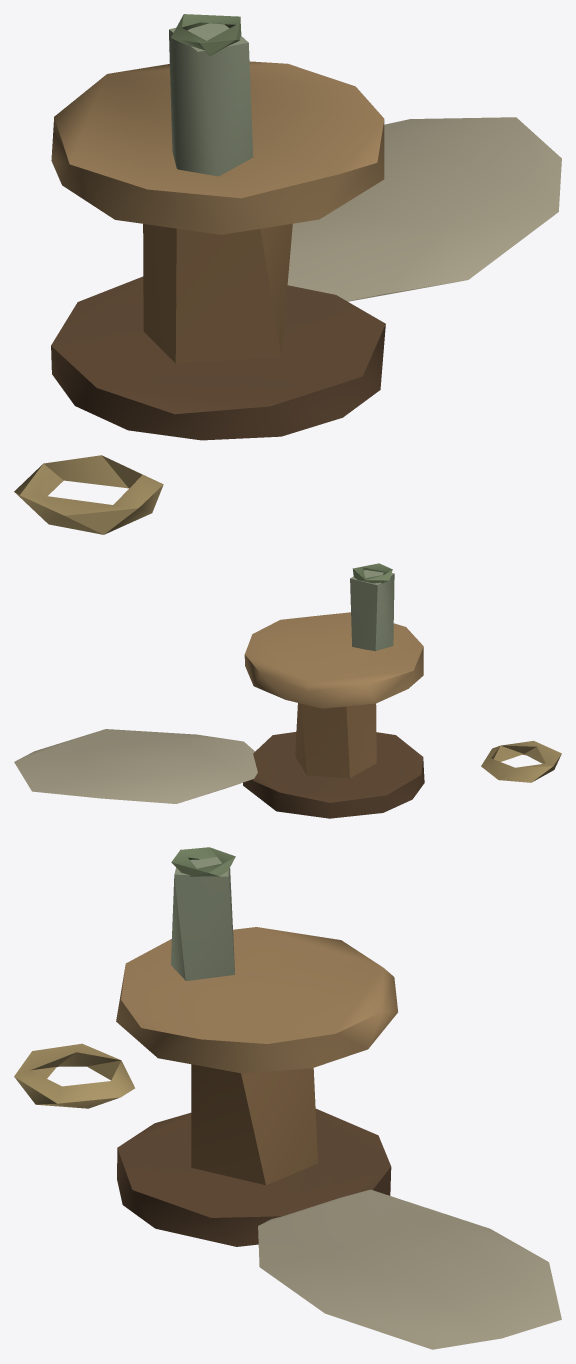
Rendered from watch_stool_c_lod2.glb.
3 views of the same model, one above another, from view 1: azimuth 30°, elevation 25°; view 2: azimuth 150°, elevation 25°; view 3: azimuth 270°, elevation 25° (orthographic). The views are drawn at different scales.
Visible parts, largest first — view 1: Surface.001; view 2: Surface.001; view 3: Surface.001.
Boxes of the visible parts, x1=… form: Surface.001: x1=14, y1=14, x2=561, y2=534; Surface.001: x1=14, y1=563, x2=561, y2=818; Surface.001: x1=14, y1=847, x2=561, y2=1349.
Size of the model in its own units: 2.82 by 1.36 by 2.14.
